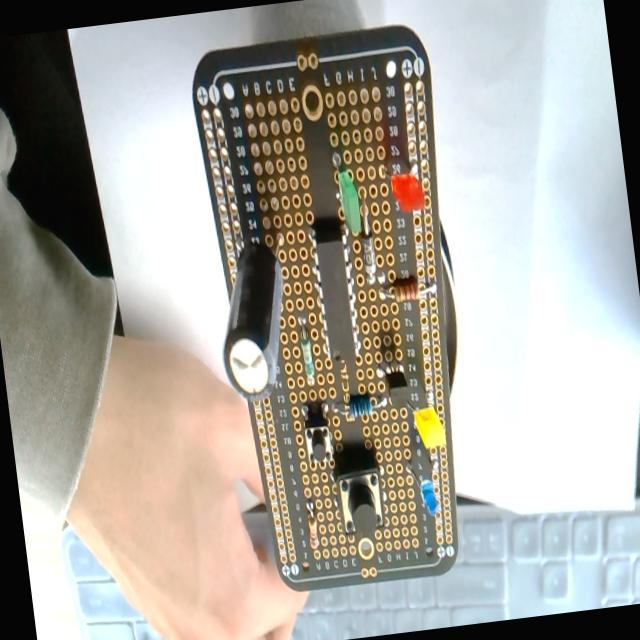Electrolytic capacitor: (202, 227, 298, 409)
IC: (306, 223, 362, 369)
diode: (354, 193, 378, 283)
led: (388, 153, 427, 215), (336, 166, 362, 237), (407, 462, 438, 518), (412, 404, 447, 451)
resistor: (381, 274, 437, 304), (298, 322, 316, 382), (348, 393, 376, 419), (305, 510, 320, 550)
switch: (332, 454, 390, 547), (302, 405, 334, 465)
transistor: (374, 344, 412, 411)
